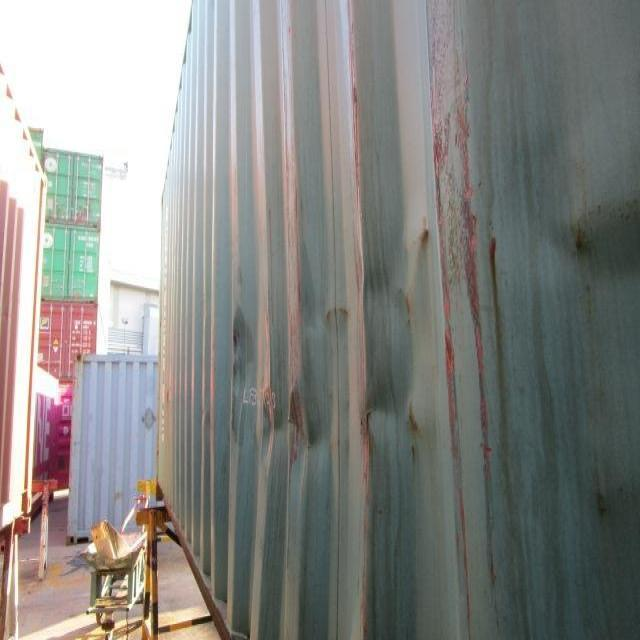Dent: (211, 227, 459, 484)
